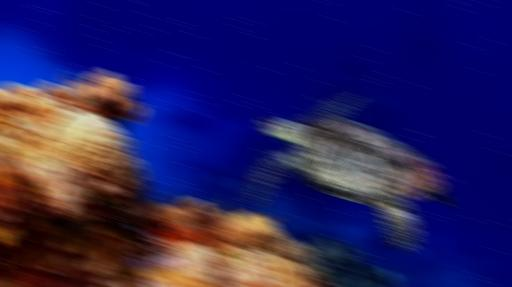Fish: (248, 95, 449, 250)
